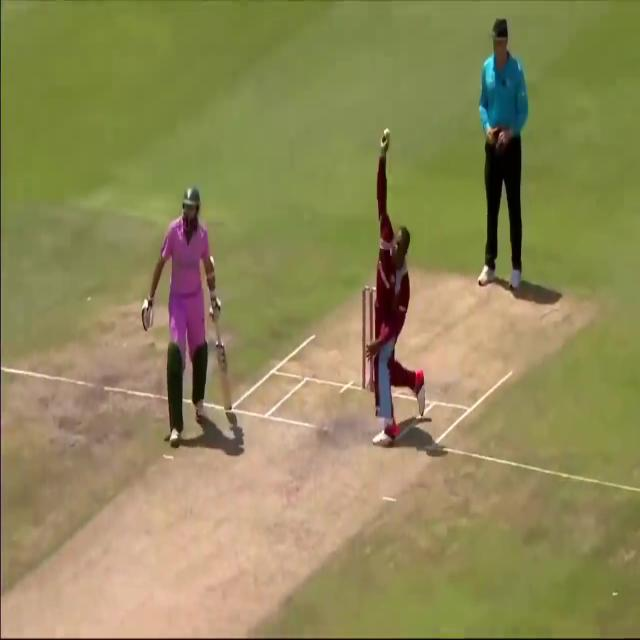Ball: (140, 186, 222, 456)
Fielder: (369, 126, 438, 451)
Umpire: (480, 15, 531, 298)
